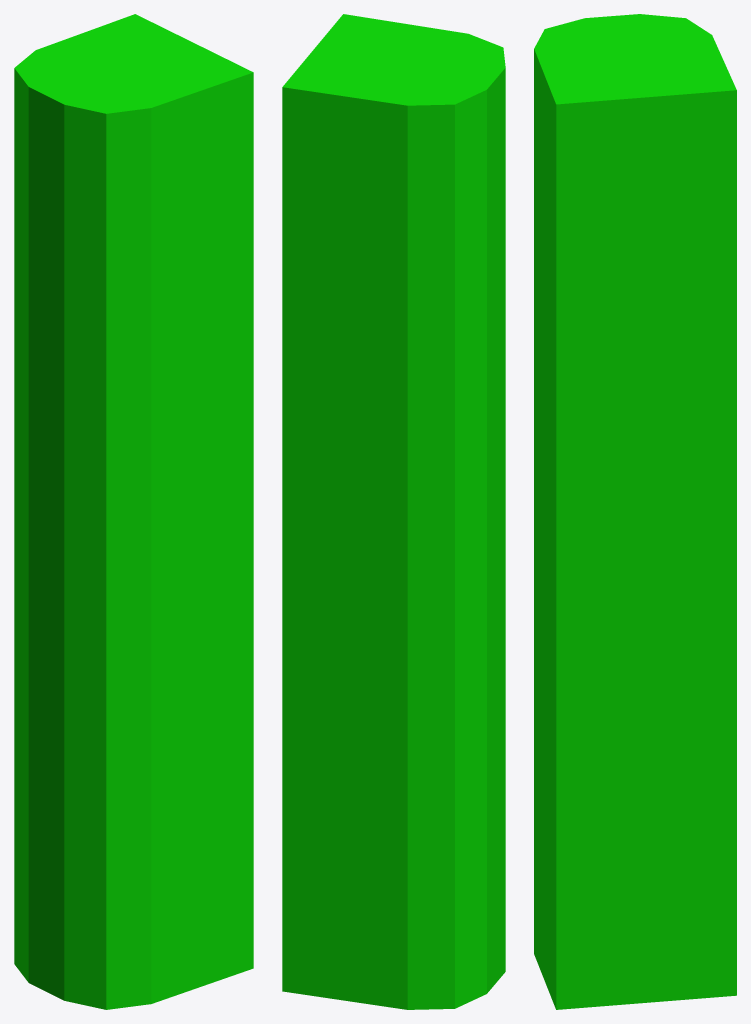
The picture shows the model from 3 angles, left to right: view 1: azimuth 30°, elevation 25°; view 2: azimuth 150°, elevation 25°; view 3: azimuth 270°, elevation 25°; orthographic projection.
Visible parts, largest first — view 1: Cube.021; view 2: Cube.021; view 3: Cube.021.
Part boxes in pixels (<box>): Cube.021: <box>14,14,253,1009</box>; Cube.021: <box>282,14,505,1009</box>; Cube.021: <box>534,14,736,1009</box>.
Size of the model in its own units: 166 by 775 by 157.
